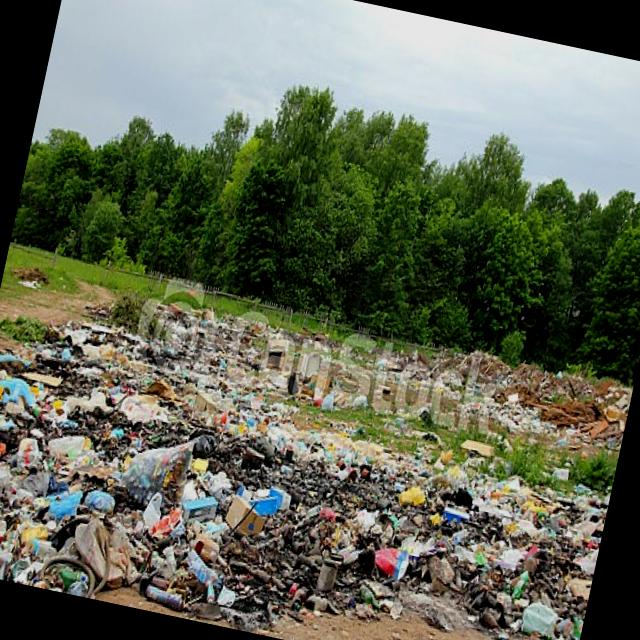garbage: (0, 286, 625, 640)
